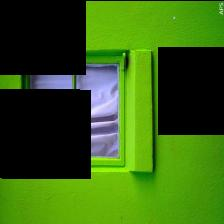green: (0, 0, 224, 224), (126, 49, 153, 171)
